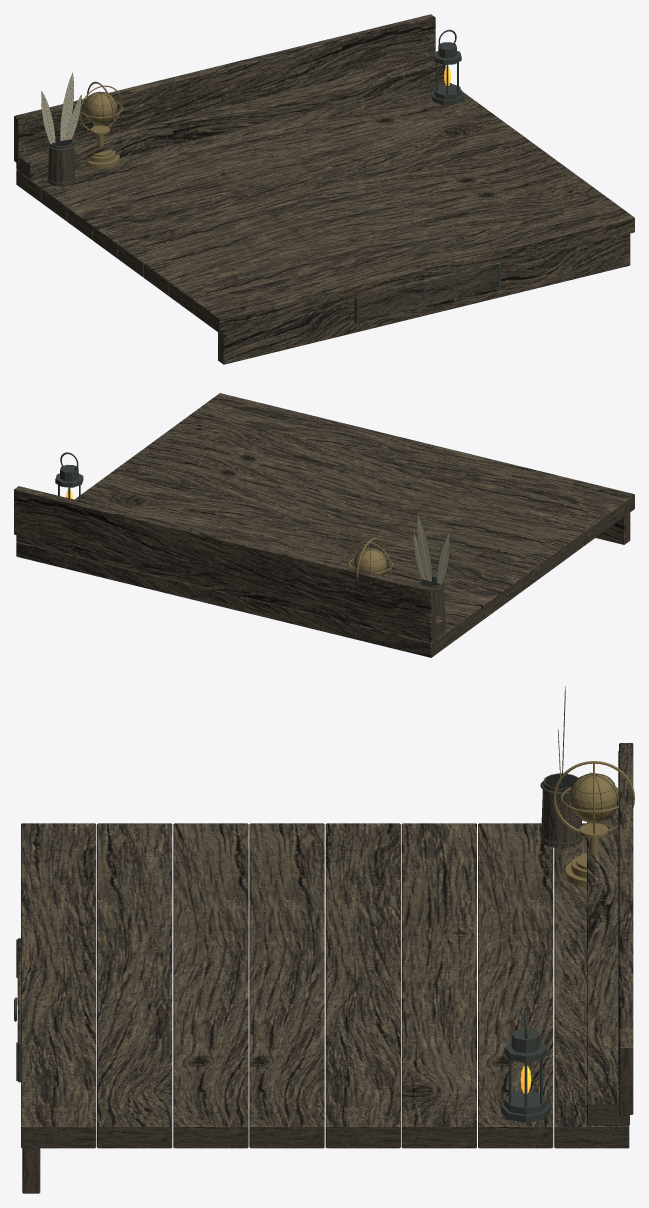
The model's file is MD-01-desk.glb.
3 renders of one model, top to bottom at view 1: azimuth 30°, elevation 25°; view 2: azimuth 150°, elevation 25°; view 3: azimuth 270°, elevation 25°, orthographic. The views are drawn at different scales.
Visible parts, largest first — view 1: Desk_Plank_00.001, Rear_Backboard.001, Desk_Plank_01.001, Desk_Plank_05.001, Desk_Plank_04.001, Desk_Plank_03.001, Desk_Plank_02.001, Desk_Plank_06.001, Desk_Apron.001, Rear_Ledge.001, Desk_Plank_07.001, Desk_Drawer_face.001 (+3 smaller); view 2: Rear_Backboard.001, Desk_Plank_01.001, Desk_Plank_02.001, Desk_Plank_00.001, Desk_Plank_03.001, Desk_Plank_04.001, Desk_Plank_05.001, Desk_Plank_07.001, Rear_Ledge.001, Desk_Plank_06.001, Armillary_globe.001, Desk_Apron.001 (+2 smaller); view 3: Desk_Plank_01.001, Desk_Plank_02.001, Desk_Plank_03.001, Desk_Plank_00.001, Desk_Plank_04.001, Desk_Plank_05.001, Desk_Plank_06.001, Desk_Plank_07.001, Rear_Ledge.001, Rear_Backboard.001, Quill_Cup.001, Armillary_globe.001 (+2 smaller).
Part boxes in pixels (bbox=[...]): Desk_Plank_00.001: bbox=[194, 199, 634, 333]; Rear_Backboard.001: bbox=[14, 14, 435, 164]; Desk_Plank_01.001: bbox=[169, 180, 609, 314]; Desk_Plank_05.001: bbox=[67, 106, 507, 240]; Desk_Plank_04.001: bbox=[93, 124, 532, 258]; Desk_Plank_03.001: bbox=[118, 143, 558, 277]; Desk_Plank_02.001: bbox=[144, 162, 583, 295]; Desk_Plank_06.001: bbox=[42, 92, 481, 221]; Desk_Apron.001: bbox=[218, 233, 630, 364]; Rear_Ledge.001: bbox=[16, 56, 445, 179]; Desk_Plank_07.001: bbox=[16, 79, 451, 202]; Desk_Drawer_face.001: bbox=[354, 261, 500, 322]; Rear_Backboard.001: bbox=[14, 486, 435, 636]; Desk_Plank_01.001: bbox=[169, 411, 609, 545]; Desk_Plank_02.001: bbox=[144, 430, 583, 564]; Desk_Plank_00.001: bbox=[195, 393, 634, 526]; Desk_Plank_03.001: bbox=[118, 449, 558, 583]; Desk_Plank_04.001: bbox=[93, 467, 532, 601]; Desk_Plank_05.001: bbox=[74, 486, 507, 620]; Desk_Plank_07.001: bbox=[16, 542, 456, 657]; Rear_Ledge.001: bbox=[16, 535, 445, 642]; Desk_Plank_06.001: bbox=[444, 597, 481, 638]; Armillary_globe.001: bbox=[354, 548, 387, 574]; Desk_Apron.001: bbox=[596, 512, 630, 544]; Desk_Plank_01.001: bbox=[97, 823, 172, 1148]; Desk_Plank_02.001: bbox=[173, 823, 248, 1148]; Desk_Plank_03.001: bbox=[249, 823, 324, 1148]; Desk_Plank_00.001: bbox=[21, 823, 96, 1148]; Desk_Plank_04.001: bbox=[325, 823, 400, 1148]; Desk_Plank_05.001: bbox=[401, 823, 476, 1148]; Desk_Plank_06.001: bbox=[478, 823, 553, 1148]; Desk_Plank_07.001: bbox=[554, 823, 629, 1148]; Rear_Ledge.001: bbox=[587, 804, 629, 1125]; Rear_Backboard.001: bbox=[619, 743, 633, 1114]; Quill_Cup.001: bbox=[541, 773, 582, 848]; Armillary_globe.001: bbox=[569, 773, 618, 822].
Bounding box in the file's own units: 2.01 × 0.7003 × 1.73.
Materials: 6 (1 with a texture image).
